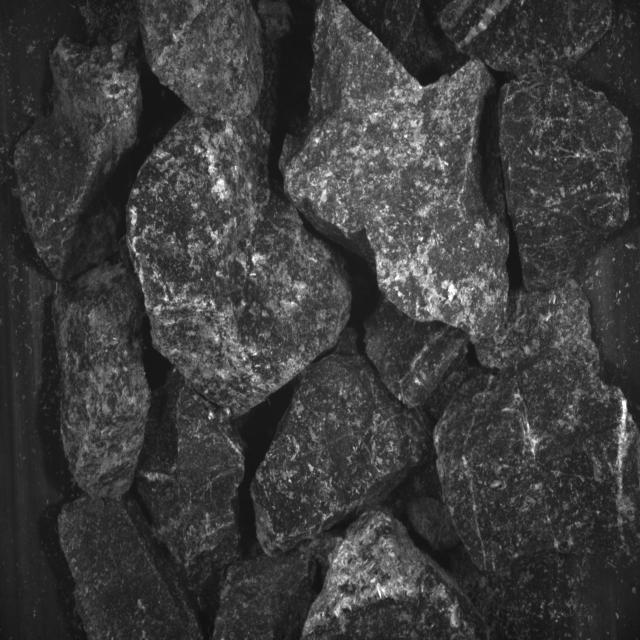Stones: (281, 3, 510, 340), (127, 115, 352, 415), (435, 281, 640, 572), (252, 355, 430, 555), (15, 39, 142, 281), (501, 74, 632, 291), (137, 371, 245, 609), (304, 512, 487, 640), (54, 264, 151, 499), (60, 496, 202, 640), (140, 1, 265, 116), (440, 1, 612, 77), (366, 300, 470, 408), (214, 555, 316, 640)
